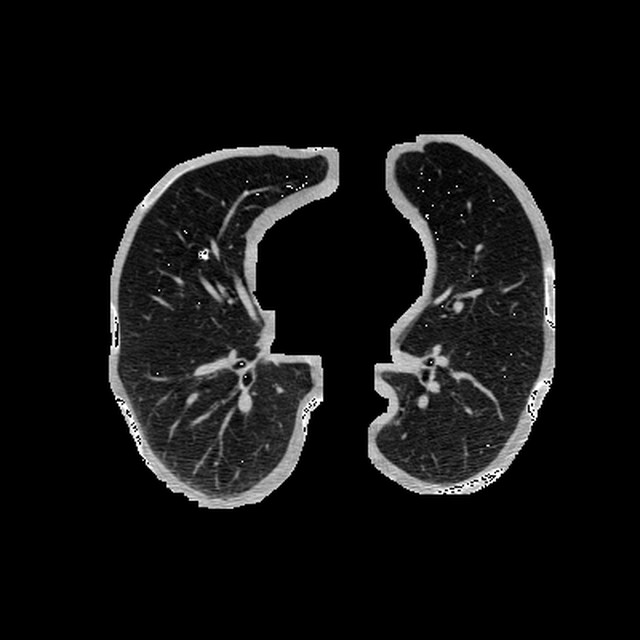PN: (200, 251, 206, 258)
